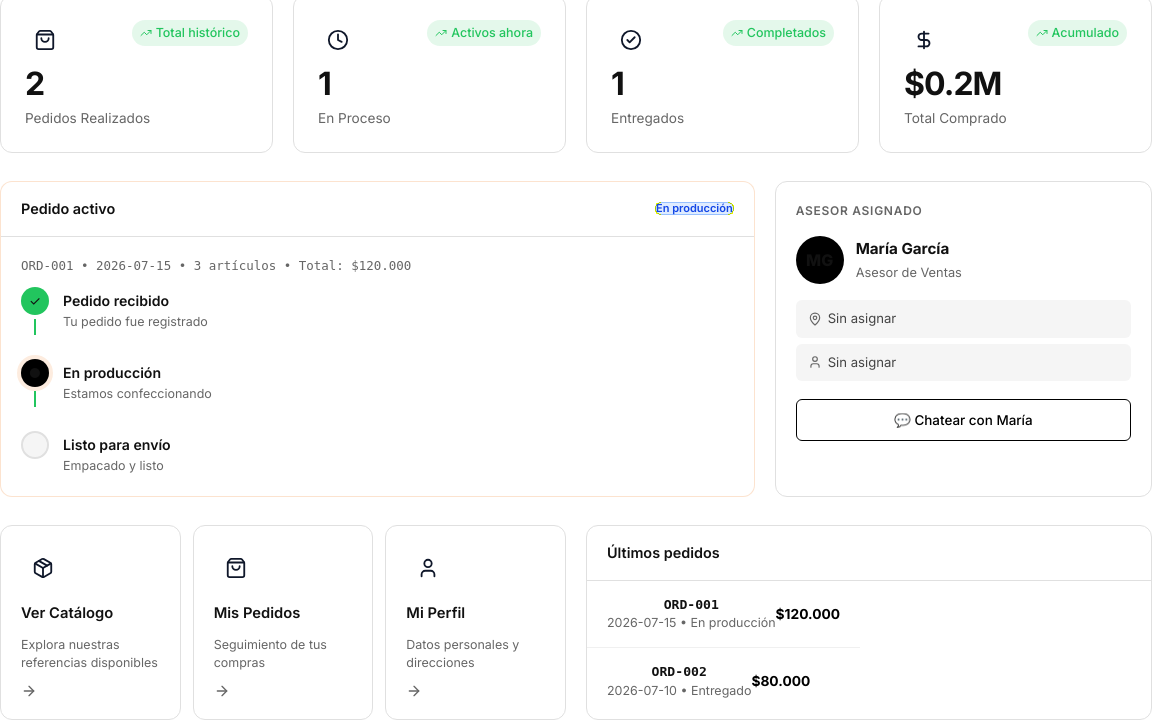
Test: InicioCliente › opens chat modal when clicking chat button
(page scrolled)
Click the button "💬 Chatear con María" at (963, 420), box [796,399,1131,442]
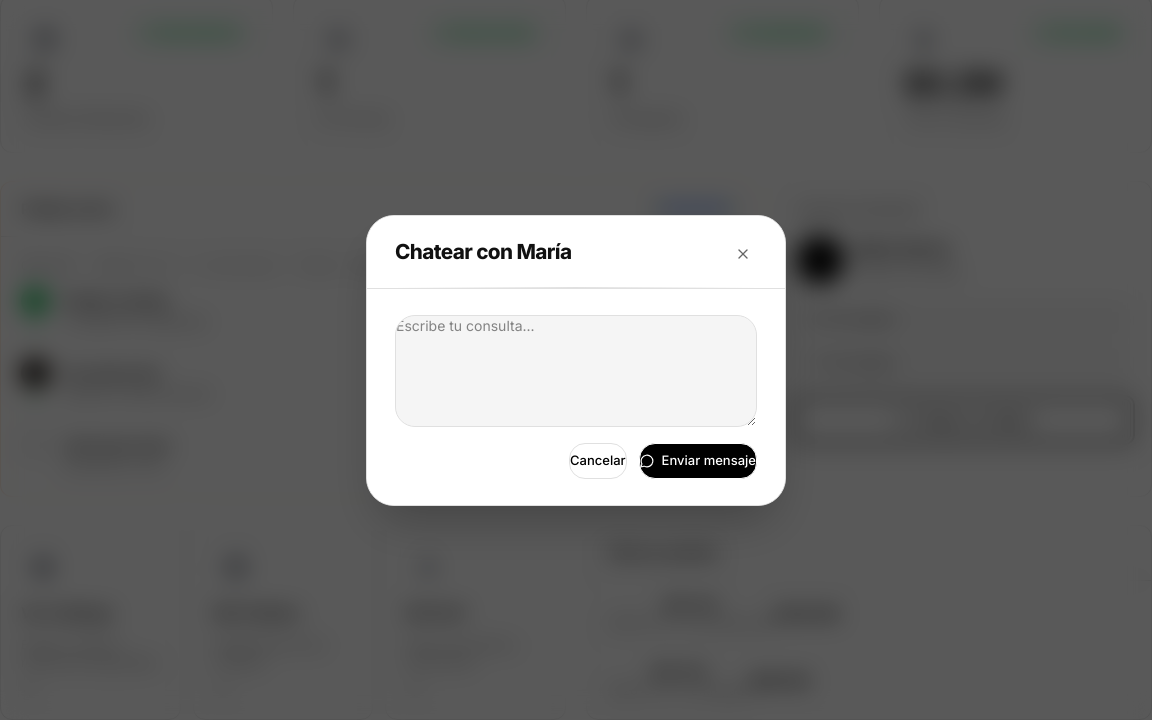
Check: the text box with placeholder "Escribe tu consulta..." is shown, box [395,314,757,426]
